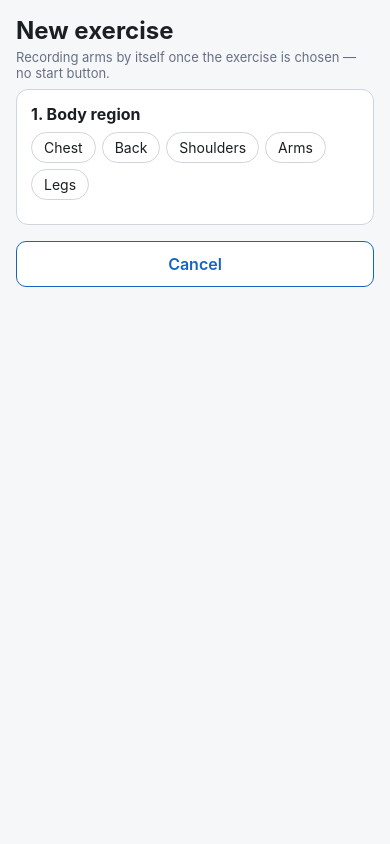
Scenario: training memory in the UX › selection shows region recency, the machine's last use and each grip's last performance before arming
The image size is (390, 844).
Click the text "Back" at (131,148), box [115,139,147,156]
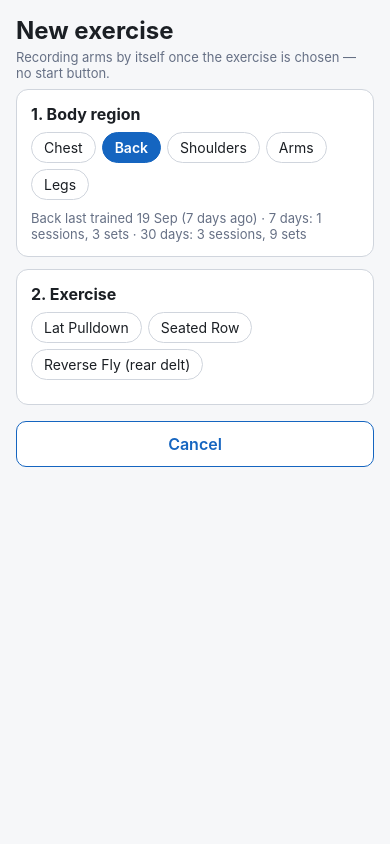
Result: the text "Back last trained 19 Sep" is shown at [31,210,359,242]
Click the text "Lat Pulldown" at (86,328), box [44,319,129,336]
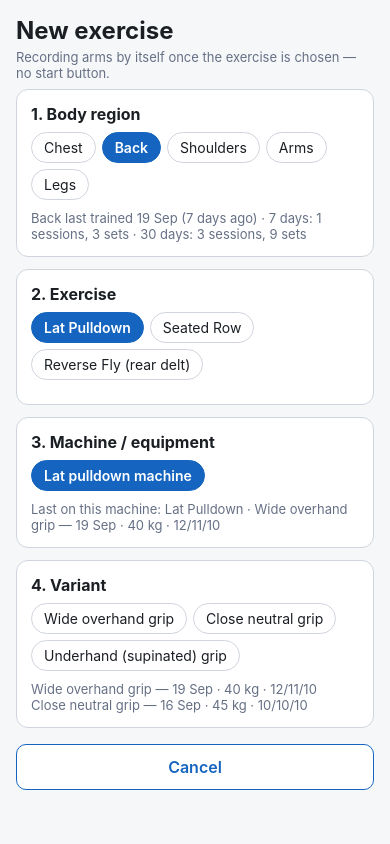
Result: the text "Last on this machine: Lat Pulldown · Wide overhand grip — 19 Sep" is shown at [31,501,359,533]
Result: the text "Wide overhand grip — 19 Sep · 40 kg · 12/11/10" is shown at [31,681,359,697]
Result: the text "Close neutral grip — 16 Sep · 45 kg · 10/10/10" is shown at [31,697,308,713]
